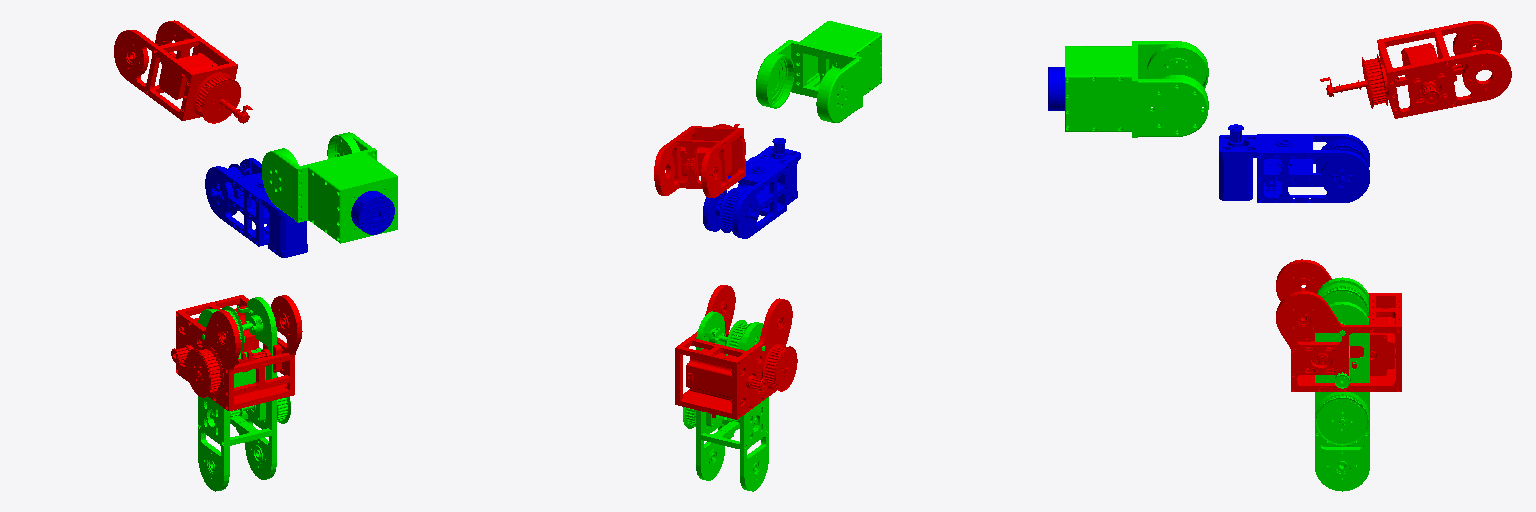
The robot description file, URDF, robot "sixrobot":
<robot
  name="sixrobot">
  <link
    name="base_link">
    <inertial>
      <origin
        xyz="-0.00014183 0.02417 0.019908"
        rpy="0 0 0" />
      <mass
        value="0.00001" />
      <inertia
        ixx="10" ixy="0.0" ixz="0.0" iyy="10" iyz="0.0" izz="10" />
    </inertial>
    <visual>
      <origin
        xyz="0 0 0"
        rpy="0 0 0" />
      <geometry>
        <mesh
          filename="package://sixrobot_description/meshes/base_link.stl" />
      </geometry>
      <material
        name="">
        <color
          rgba="255 250 250 1" />
      </material>
    </visual>
    <collision>
      <origin
        xyz="0 0 0"
        rpy="0 0 0" />
      <geometry>
        <mesh
          filename="package://sixrobot_description/meshes/base_link.stl" />
      </geometry>
    </collision>
  </link>
  <link
    name="Link1">
    <inertial>
      <origin
        xyz="-0.003411 0.071928 -0.0017952"
        rpy="0 0 0" />
      <mass
        value="0.00001" />
      <inertia
        ixx="10" ixy="0.0" ixz="0.0" iyy="10" iyz="0.0" izz="10" />
    </inertial>
    <visual>
      <origin
        xyz="0 0 0"
        rpy="0 0 0" />
      <geometry>
        <mesh
          filename="package://sixrobot_description/meshes/Link1.stl" />
      </geometry>
      <material
        name="">
        <color
          rgba="255 0 0 1" />
      </material>
    </visual>
    <collision>
      <origin
        xyz="0 0 0"
        rpy="0 0 0" />
      <geometry>
        <mesh
          filename="package://sixrobot_description/meshes/Link1.stl" />
      </geometry>
    </collision>
  </link>
  <joint
    name="joint1"
    type="revolute">
    <origin
      xyz="0.00021336 -0.024174 0.09434"
      rpy="1.5708 6.123E-17 1.5708" />
    <parent
      link="base_link" />
    <child
      link="Link1" />
    <axis
      xyz="0 1 0" />
    <limit
      lower="-1.5708"
      upper="1.5708"
      effort="100"
      velocity="1" />
  </joint>
  <link
    name="Link2">
    <inertial>
      <origin
        xyz="0.14201 -8.8611E-08 -0.00098855"
        rpy="0 0 0" />
      <mass
        value="0.00001" />
      <inertia
        ixx="10" ixy="0.0" ixz="0.0" iyy="10" iyz="0.0" izz="10" />
    </inertial>
    <visual>
      <origin
        xyz="0 0 0"
        rpy="0 0 0" />
      <geometry>
        <mesh
          filename="package://sixrobot_description/meshes/Link2.stl" />
      </geometry>
      <material
        name="">
        <color
          rgba="0 255 0 1" />
      </material>
    </visual>
    <collision>
      <origin
        xyz="0 0 0"
        rpy="0 0 0" />
      <geometry>
        <mesh
          filename="package://sixrobot_description/meshes/Link2.stl" />
      </geometry>
    </collision>
  </link>
  <joint
    name="joint2"
    type="revolute">
    <origin
      xyz="-0.005 0.1 0"
      rpy="3.1416 -5.0415E-16 1.5708" />
    <parent
      link="Link1" />
    <child
      link="Link2" />
    <axis
      xyz="0 0 -1" />
    <limit
      lower="-1.5708"
      upper="1.5708"
      effort="100"
      velocity="1" />
  </joint>
  <link
    name="Link3">
    <inertial>
      <origin
        xyz="-0.089574 0.0018335 0.00017688"
        rpy="0 0 0" />
      <mass
        value="0.00001" />
      <inertia
        ixx="10" ixy="0.0" ixz="0.0" iyy="10" iyz="0.0" izz="10" />
    </inertial>
    <visual>
      <origin
        xyz="0 0 0"
        rpy="0 0 0" />
      <geometry>
        <mesh
          filename="package://sixrobot_description/meshes/Link3.stl" />
      </geometry>
      <material
        name="">
        <color
          rgba="0 0 255 1" />
      </material>
    </visual>
    <collision>
      <origin
        xyz="0 0 0"
        rpy="0 0 0" />
      <geometry>
        <mesh
          filename="package://sixrobot_description/meshes/Link3.stl" />
      </geometry>
    </collision>
  </link>
  <joint
    name="joint3"
    type="revolute">
    <origin
      xyz="0.205 0 0"
      rpy="2.2226E-16 1.2197E-16 3.1416" />
    <parent
      link="Link2" />
    <child
      link="Link3" />
    <axis
      xyz="0 0 -1" />
    <limit
      lower="-1.5708"
      upper="1.5708"
      effort="100"
      velocity="1" />
  </joint>
  <link
    name="Link4">
    <inertial>
      <origin
        xyz="0.16084 0.02072 0.028418"
        rpy="0 0 0" />
      <mass
        value="0.00001" />
      <inertia
        ixx="10" ixy="0.0" ixz="0.0" iyy="10" iyz="0.0" izz="10" />
    </inertial>
    <visual>
      <origin
        xyz="0 0 0"
        rpy="0 0 0" />
      <geometry>
        <mesh
          filename="package://sixrobot_description/meshes/Link4.stl" />
      </geometry>
      <material
        name="">
        <color
          rgba="255 0 0 1" />
      </material>
    </visual>
    <collision>
      <origin
        xyz="0 0 0"
        rpy="0 0 0" />
      <geometry>
        <mesh
          filename="package://sixrobot_description/meshes/Link4.stl" />
      </geometry>
    </collision>
  </link>
  <joint
    name="joint4"
    type="revolute">
    <origin
      xyz="-0.11 0.0057828 0"
      rpy="-0.13967 0.1538 1.4216" />
    <parent
      link="Link3" />
    <child
      link="Link4" />
    <axis
      xyz="0.97722 0.12611 0.17071" />
    <limit
      lower="-1.5708"
      upper="1.5708"
      effort="100"
      velocity="1" />
  </joint>
  <link
    name="Link5">
    <inertial>
      <origin
        xyz="-0.088587 5.1035E-09 0.00082307"
        rpy="0 0 0" />
      <mass
        value="0.00001" />
      <inertia
        ixx="10" ixy="0.0" ixz="0.0" iyy="10" iyz="0.0" izz="10" />
    </inertial>
    <visual>
      <origin
        xyz="0 0 0"
        rpy="0 0 0" />
      <geometry>
        <mesh
          filename="package://sixrobot_description/meshes/Link5.stl" />
      </geometry>
      <material
        name="">
        <color
          rgba="0 255 0 1" />
      </material>
    </visual>
    <collision>
      <origin
        xyz="0 0 0"
        rpy="0 0 0" />
      <geometry>
        <mesh
          filename="package://sixrobot_description/meshes/Link5.stl" />
      </geometry>
    </collision>
  </link>
  <joint
    name="joint5"
    type="revolute">
    <origin
      xyz="0.19712 0.025439 0.034436"
      rpy="-0.11711 0.17155 -3.0132" />
    <parent
      link="Link4" />
    <child
      link="Link5" />
    <axis
      xyz="0 0 -1" />
    <limit
      lower="-1.5708"
      upper="1.5708"
      effort="100"
      velocity="1" />
  </joint>
  <link
    name="Link6">
    <inertial>
      <origin
        xyz="-0.020317 9.8259E-07 -2.6983E-07"
        rpy="0 0 0" />
      <mass
        value="0.00001" />
      <inertia
        ixx="10" ixy="0.0" ixz="0.0" iyy="10" iyz="0.0" izz="10" />
    </inertial>
    <visual>
      <origin
        xyz="0 0 0"
        rpy="0 0 0" />
      <geometry>
        <mesh
          filename="package://sixrobot_description/meshes/Link6.stl" />
      </geometry>
      <material
        name="">
        <color
          rgba="0 0 255 1" />
      </material>
    </visual>
    <collision>
      <origin
        xyz="0 0 0"
        rpy="0 0 0" />
      <geometry>
        <mesh
          filename="package://sixrobot_description/meshes/Link6.stl" />
      </geometry>
    </collision>
  </link>
  <joint
    name="joint6"
    type="continuous">
    <origin
      xyz="-0.13059 0 0.000625"
      rpy="-1.8616 -5.7439E-17 1.638E-17" />
    <parent
      link="Link5" />
    <child
      link="Link6" />
    <axis
      xyz="-1 0 0" />
  </joint>
</robot>

--- What the picture shows (computed from the rendered views, not written in the file) ---
Views: 3 orthographic renders of the robot side by side, from view 1: azimuth 30°, elevation 25°; view 2: azimuth 150°, elevation 25°; view 3: azimuth 270°, elevation 25°.
Robot: sixrobot — 7 links, 6 joints (5 revolute, 1 continuous); root link base_link; default pose: all joints at 0.
Links seen in each view (by area): view 1: Link1, Link5, Link4, Link2, Link3, Link6; view 2: Link1, Link5, Link2, Link3, Link4; view 3: Link5, Link1, Link4, Link3, Link2, Link6.
Link boxes in pixels (left/top/right/bottom): Link1: left=171, top=295, right=302, bottom=410; Link5: left=262, top=132, right=397, bottom=243; Link4: left=114, top=20, right=252, bottom=123; Link2: left=198, top=297, right=290, bottom=491; Link3: left=205, top=158, right=307, bottom=257; Link6: left=351, top=191, right=394, bottom=234; Link1: left=675, top=285, right=797, bottom=419; Link5: left=756, top=21, right=881, bottom=122; Link2: left=683, top=311, right=768, bottom=491; Link3: left=703, top=138, right=800, bottom=238; Link4: left=654, top=124, right=745, bottom=197; Link5: left=1065, top=41, right=1208, bottom=137; Link1: left=1276, top=259, right=1401, bottom=391; Link4: left=1320, top=21, right=1511, bottom=118; Link3: left=1219, top=124, right=1369, bottom=202; Link2: left=1315, top=277, right=1369, bottom=491; Link6: left=1048, top=67, right=1064, bottom=110.
Bounding box of the posed robot: 0.1414 × 0.5839 × 0.606 m (x, y, z).
Meshes: 7 distinct files referenced, 6 mesh visuals loaded (6 binary STL); not drawn: 1 (reference not matched to a file when rendering).